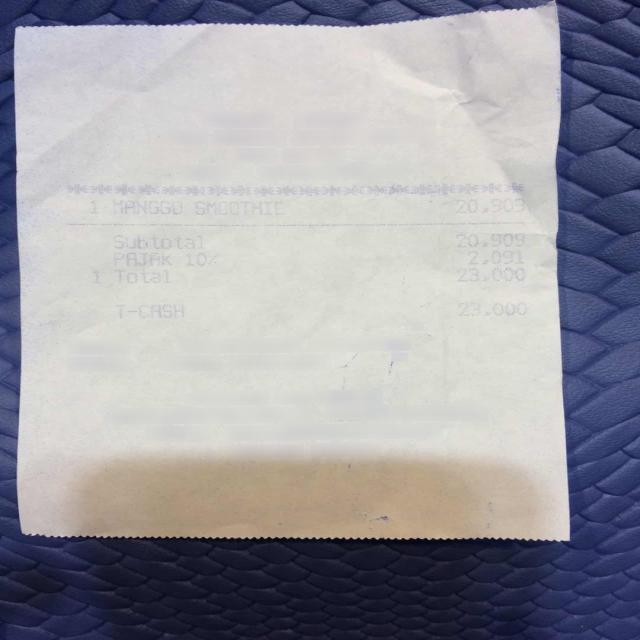kertas: (18, 5, 569, 540)
